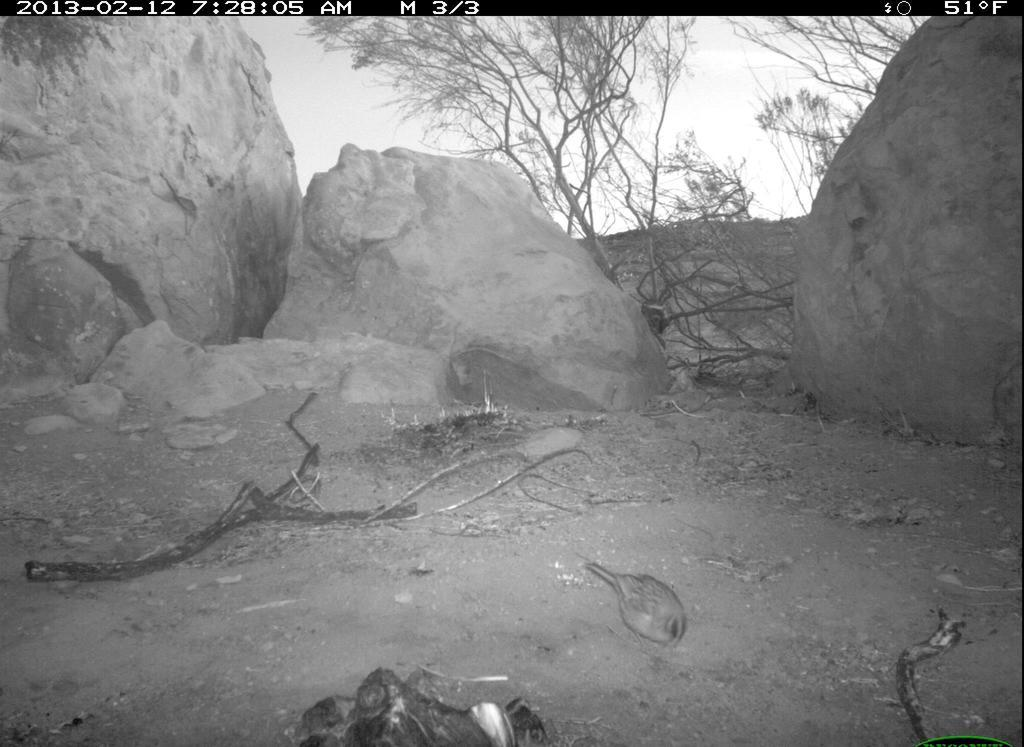bird: (569, 546, 700, 673)
